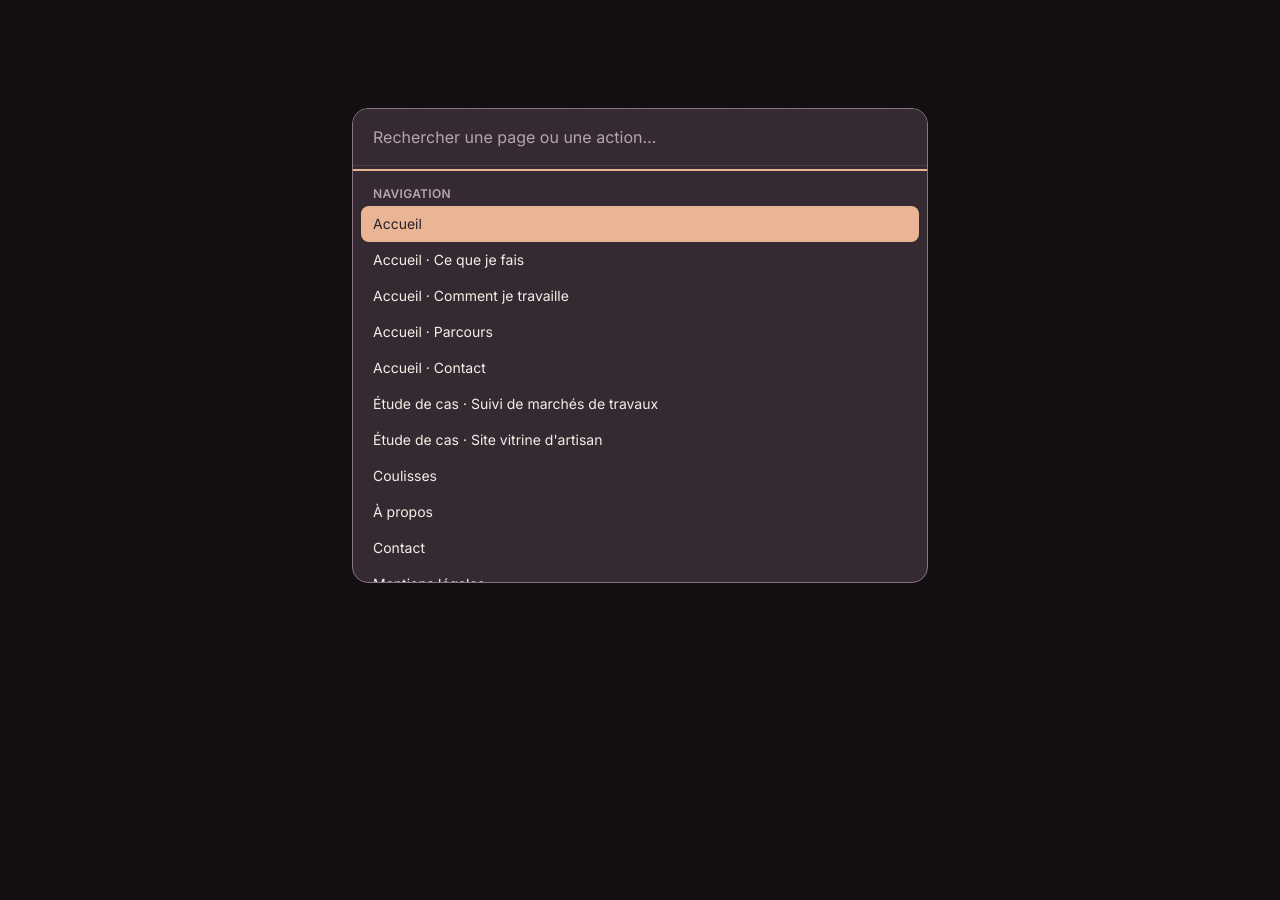
Scenario: PaletteCommandes › sans résultat, le dit et retire la liste
The image size is (1280, 900).
In the dropdown: (640, 138) [353, 109, 927, 166], type "zzz"
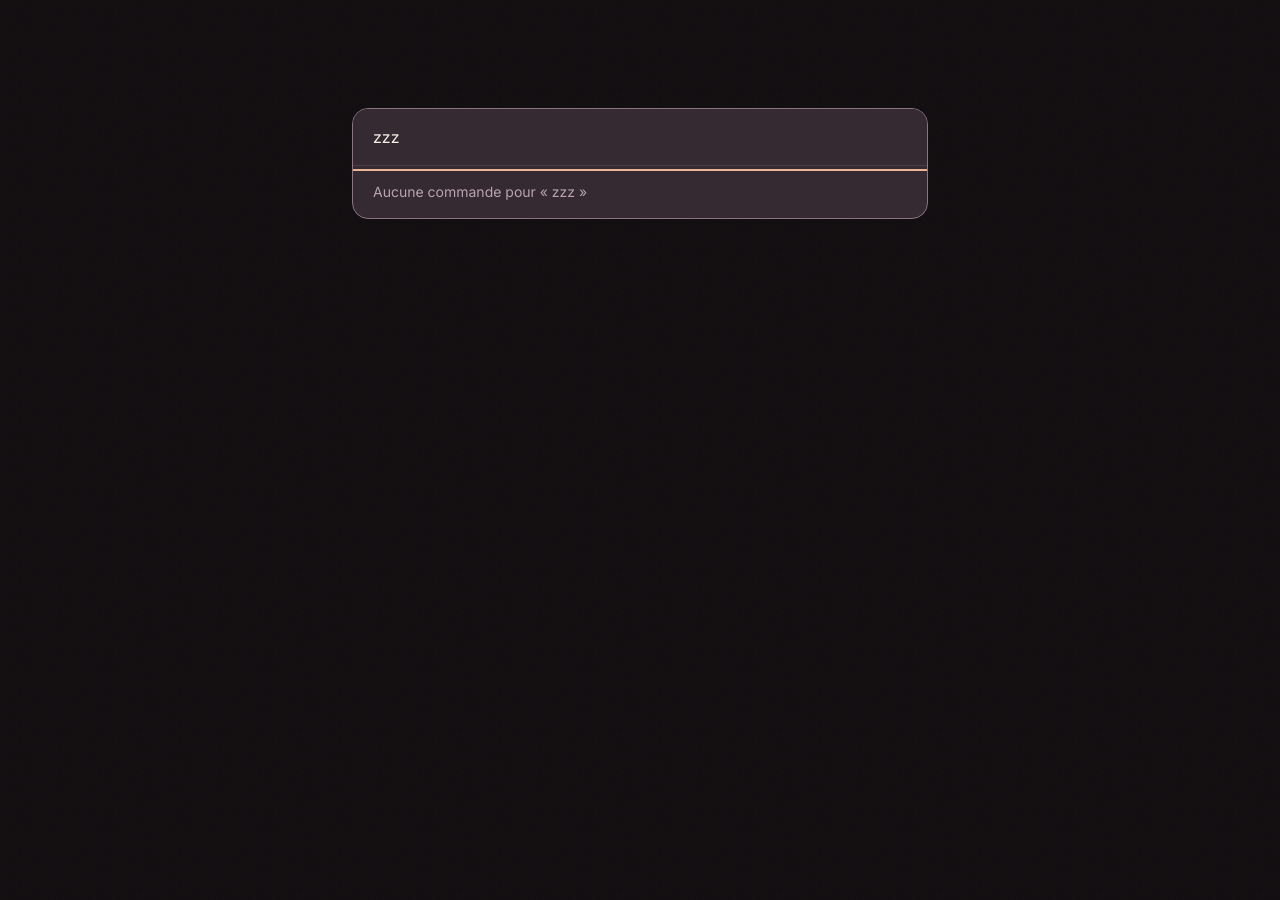
expect the list is gone: met
expect the dropdown is collapsed: met, box [353, 109, 927, 166]
